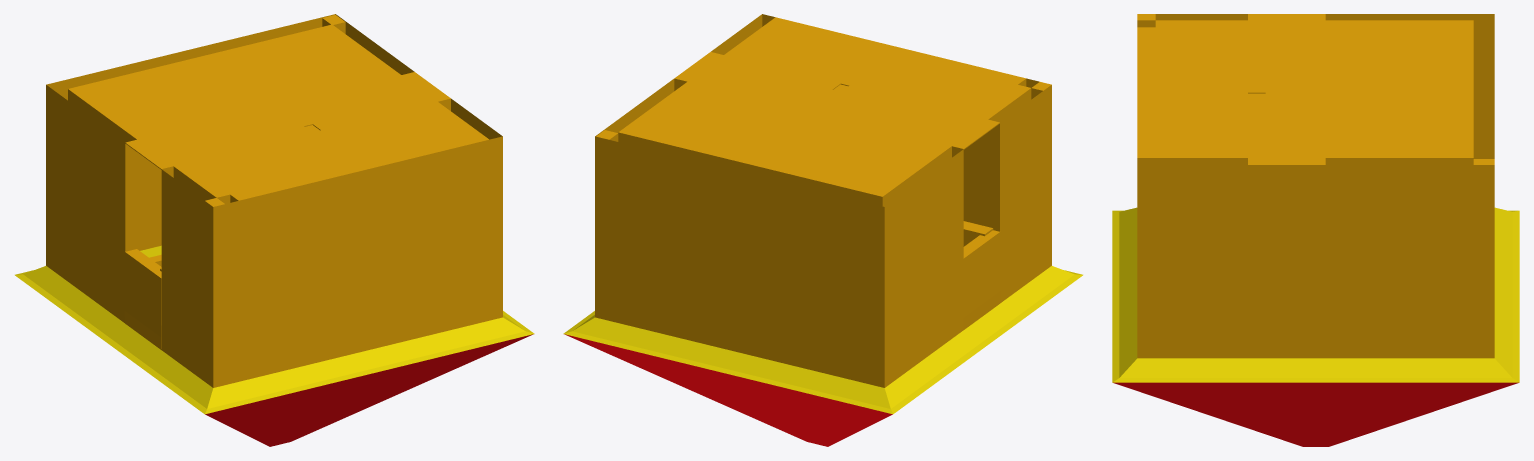
Rendered from DomCOLOR.fbx.
The picture shows the model from 3 angles, left to right: view 1: azimuth 30°, elevation 25°; view 2: azimuth 150°, elevation 25°; view 3: azimuth 270°, elevation 25°; orthographic projection. The views are drawn at different scales.
Visible parts, largest first — view 1: Cube, Roof; view 2: Cube, Roof; view 3: Cube, Roof.
Boxes of the visible parts, <box> form: Cube: <box>46,14,502,387</box>; Roof: <box>15,245,534,446</box>; Cube: <box>595,14,1051,387</box>; Roof: <box>563,266,1082,446</box>; Cube: <box>1137,14,1494,358</box>; Roof: <box>1112,207,1519,446</box>.
Size of the model in its own units: 9117 by 8699 by 9117.
